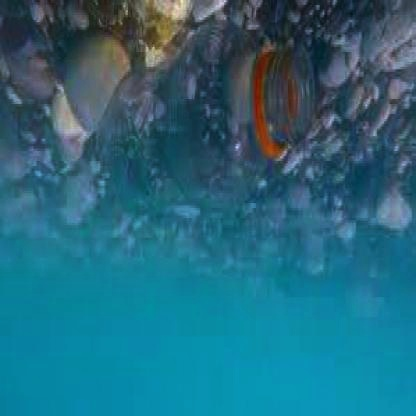pbottle: (83, 17, 327, 223)
